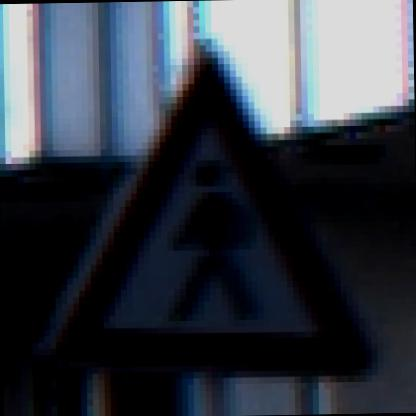crosswalk: (41, 42, 376, 392)
